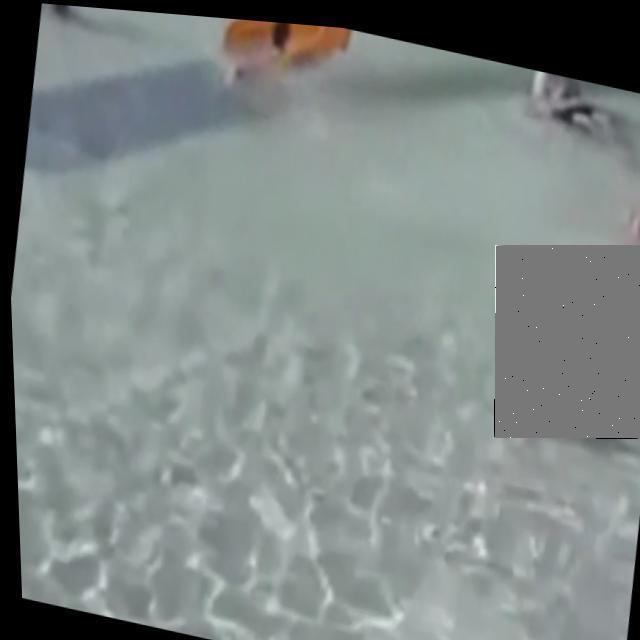swimming: (495, 245, 640, 438)
